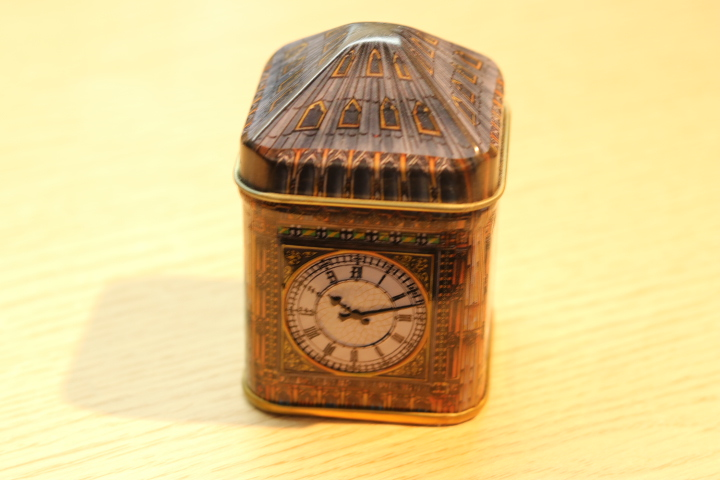Big Ben: (212, 8, 540, 431)
